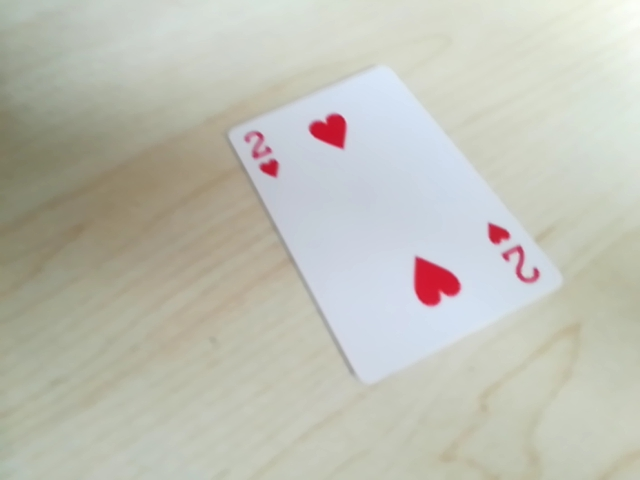hx 2: (487, 213, 542, 295), (234, 117, 285, 183)
